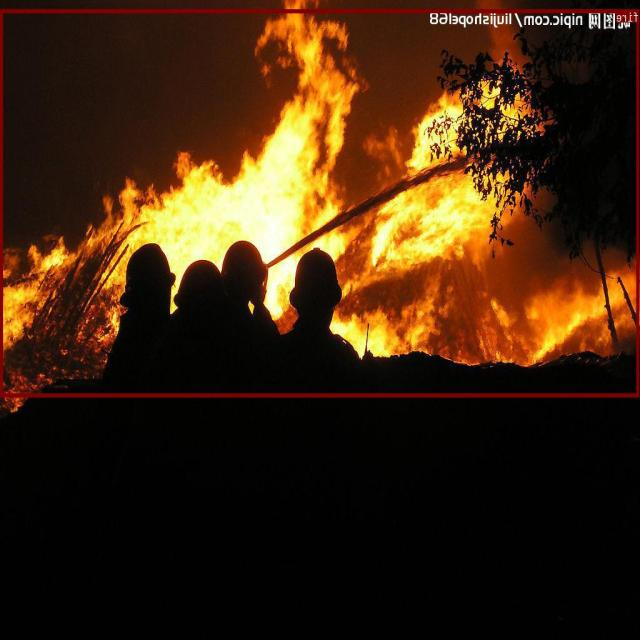fire: (1, 8, 640, 396)
